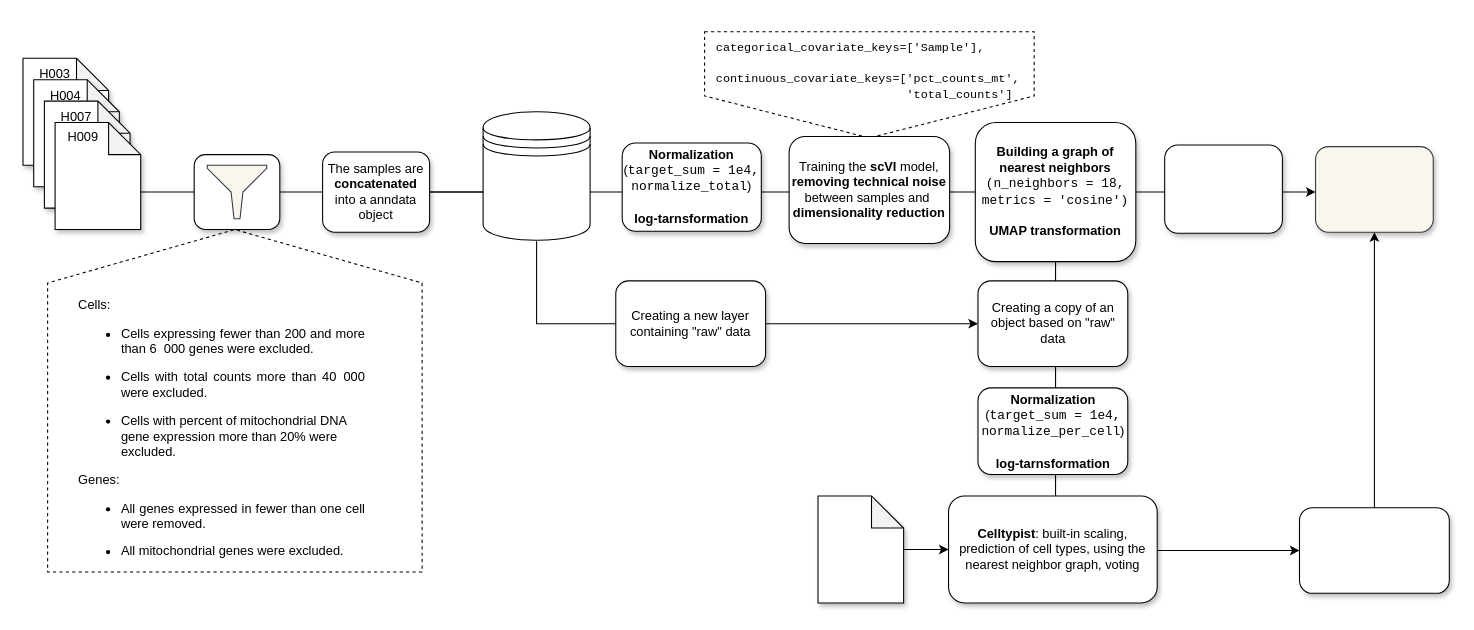
Some shapes in this 1474 by 630 pixel diagram are drawn without their labels. Here are the shapes that lost their labels. From the top down, the centre of each, then its label:
the point at 536,175: Combined data (H003, H004, H007, H009)
the point at 1224,190: Scaling (Z-transform, acceptable maximum is 10)
the point at 1375,190: plot UMAP
the point at 861,550: Adult_Mouse _Gut.pkl
the point at 1375,551: Cell type markup for each cell
